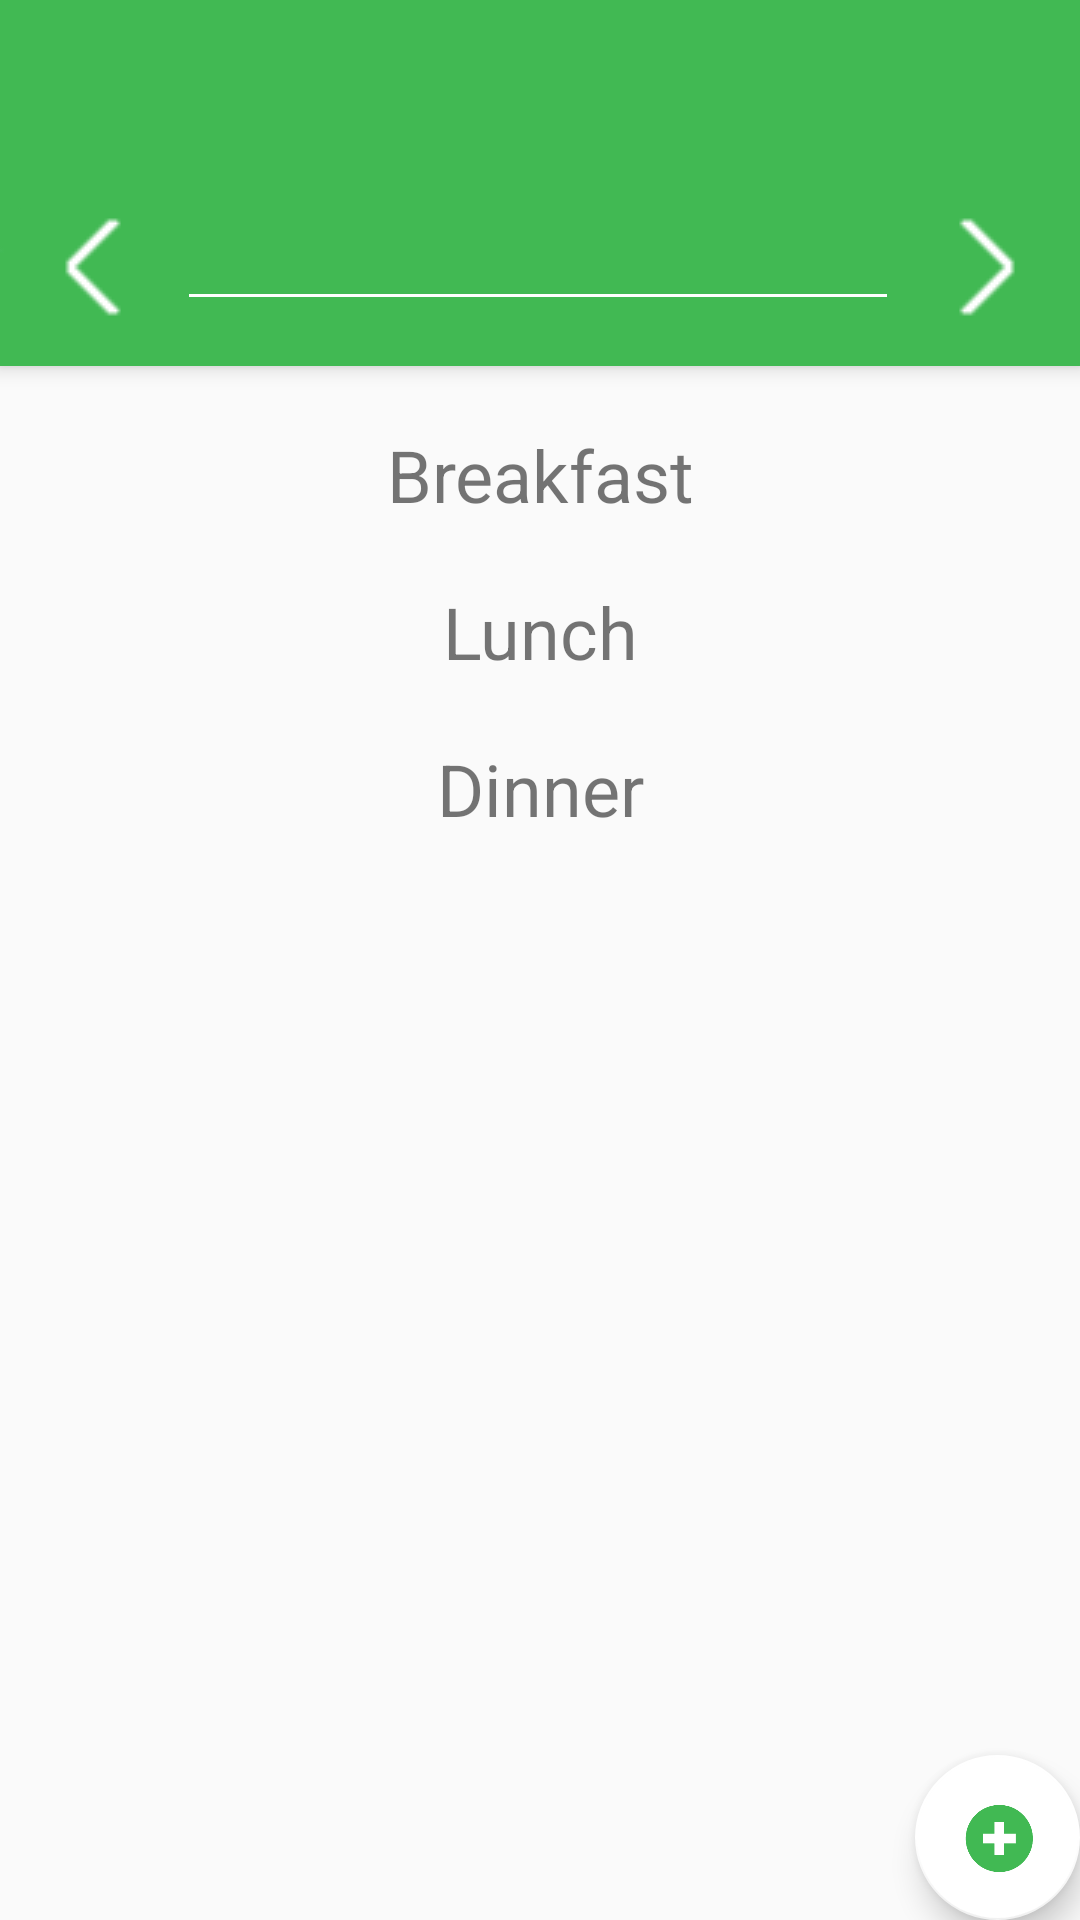

Screen size 1080px×1920px. Icon name, then its center in pixels as point (x, y):
plusbig: point (1000, 1862)
